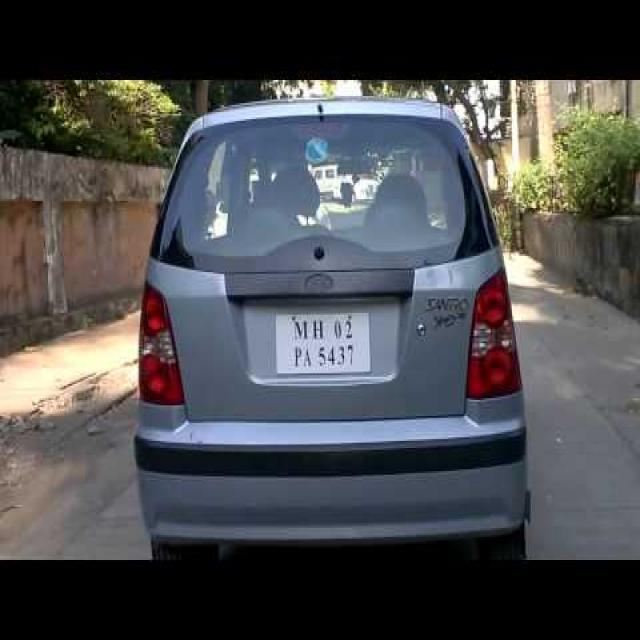Number-Plate: (273, 310, 364, 374)
